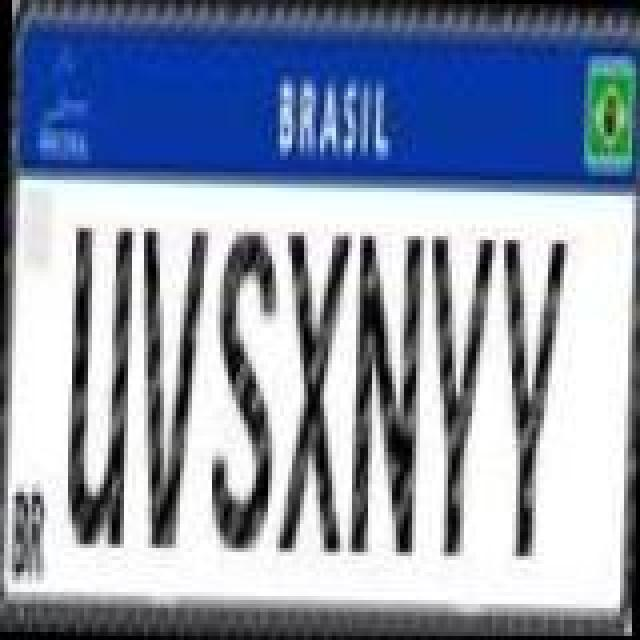N: (346, 222, 426, 562)
S: (208, 224, 284, 552)
U: (62, 222, 134, 546)
V: (130, 216, 210, 556)
X: (274, 226, 354, 554)
Y: (486, 232, 566, 560), (416, 230, 492, 558)
